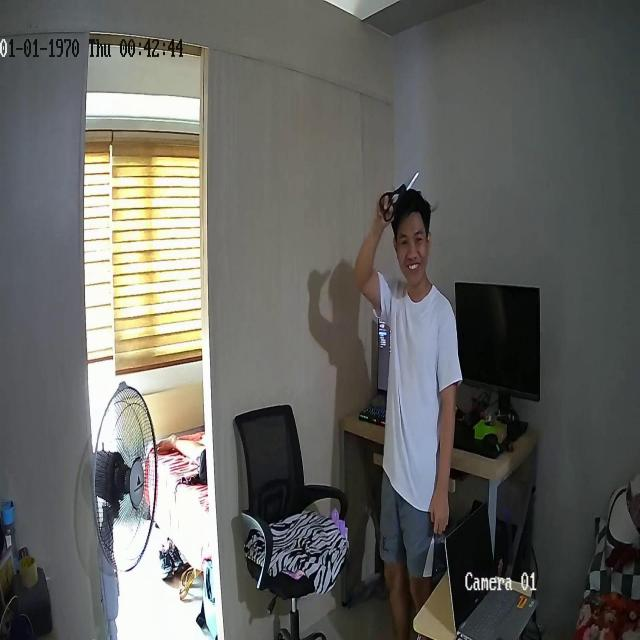scissor: (378, 172, 419, 223)
